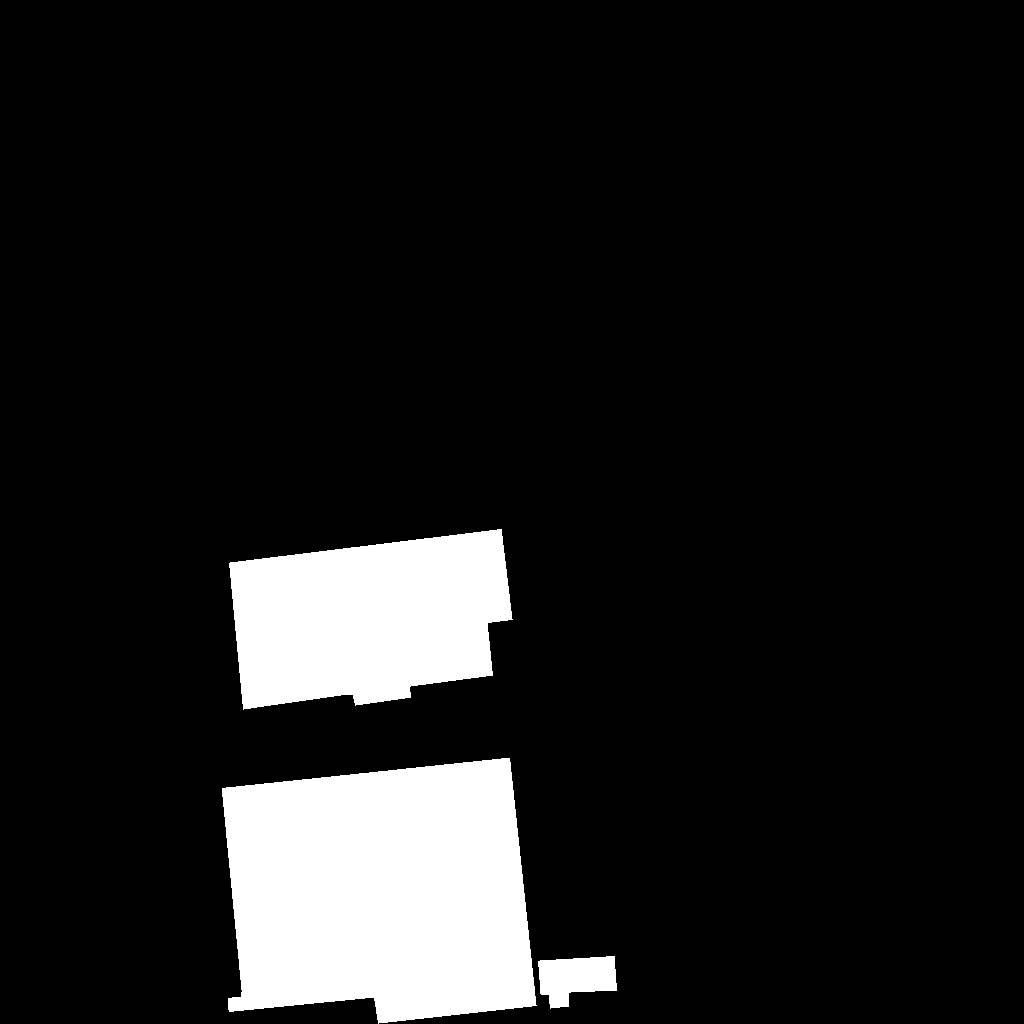building: (222, 758, 537, 1024), (229, 529, 513, 710), (538, 956, 618, 1009)
